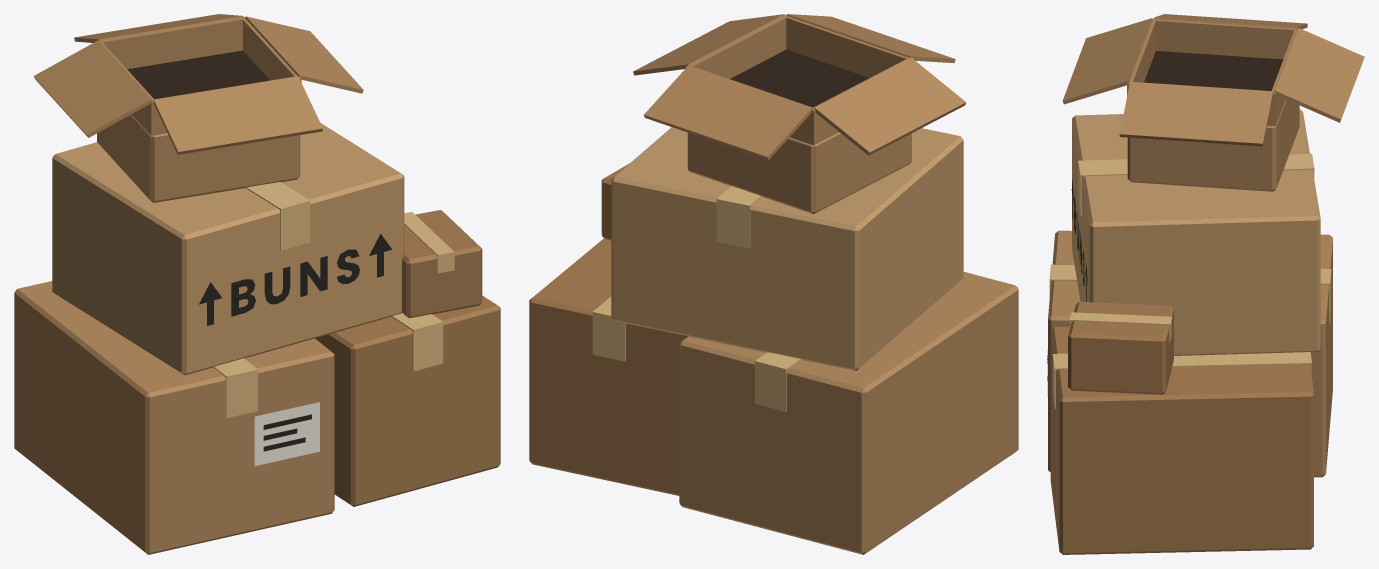
File: Shop_BoxStack.fbx
3 renders of one model, left to right at view 1: azimuth 30°, elevation 25°; view 2: azimuth 150°, elevation 25°; view 3: azimuth 270°, elevation 25°, orthographic. The views are drawn at different scales.
Parts seen in each view (by area): view 1: Boxes, BoxesLight, BoxesDark, Tape, Inside, Stencil, Label, LabelInk; view 2: Boxes, BoxesLight, BoxesDark, Tape, Inside; view 3: BoxesDark, BoxesLight, Boxes, Tape, Inside, Stencil.
Part boxes in pixels (left/top/right/bottom): Boxes: left=14, top=14, right=363, bottom=554; BoxesLight: left=52, top=123, right=404, bottom=375; BoxesDark: left=315, top=210, right=500, bottom=506; Tape: left=213, top=182, right=454, bottom=418; Inside: left=127, top=50, right=269, bottom=99; Stencil: left=199, top=233, right=392, bottom=325; Label: left=254, top=402, right=319, bottom=465; LabelInk: left=263, top=414, right=311, bottom=451; Boxes: left=633, top=14, right=1018, bottom=554; BoxesLight: left=611, top=127, right=963, bottom=370; BoxesDark: left=529, top=163, right=687, bottom=495; Tape: left=592, top=186, right=801, bottom=411; Inside: left=730, top=49, right=869, bottom=107; BoxesDark: left=1050, top=301, right=1313, bottom=554; BoxesLight: left=1072, top=109, right=1320, bottom=355; Boxes: left=1048, top=14, right=1364, bottom=477; Tape: left=1049, top=153, right=1331, bottom=408; Inside: left=1144, top=51, right=1283, bottom=90; Stencil: left=1071, top=180, right=1087, bottom=301.
Size of the model in its own units: 350 by 377 by 274.
